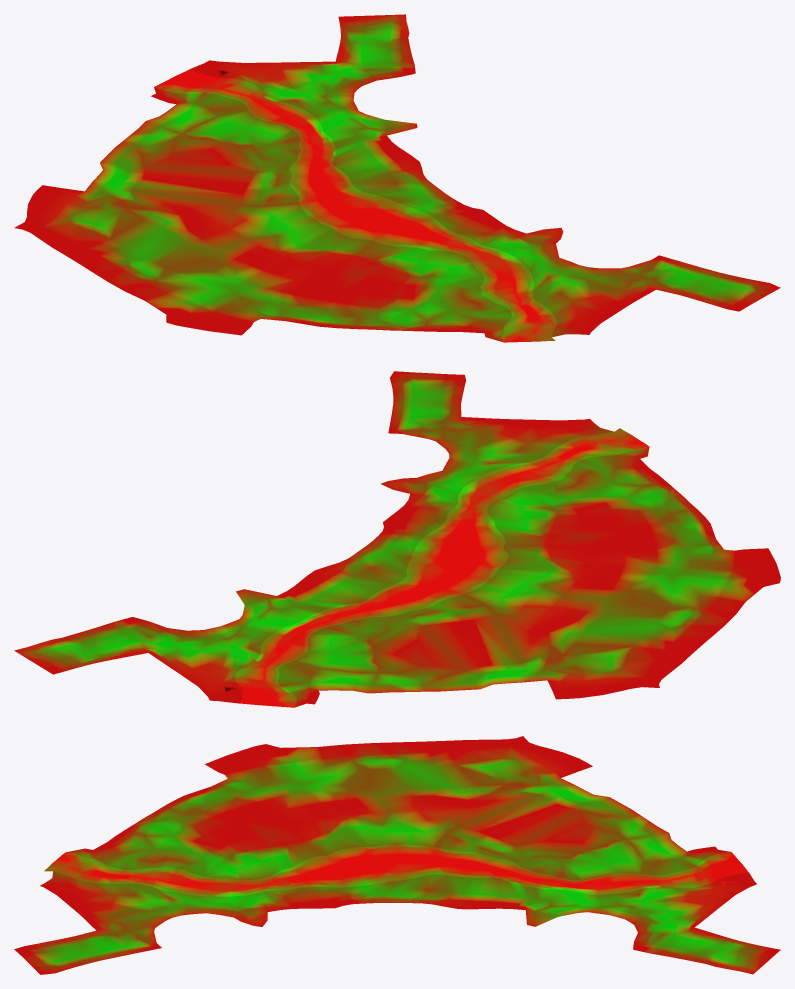
Rendered from pref_sm_beach_winter_grassground02b_lv3.fbx.
3 views of the same model, one above another, from view 1: azimuth 30°, elevation 25°; view 2: azimuth 150°, elevation 25°; view 3: azimuth 270°, elevation 25° (orthographic). The views are drawn at different scales.
Parts seen in each view (by area): view 1: pref_sm_beach_winter_grassground02b_lv3; view 2: pref_sm_beach_winter_grassground02b_lv3; view 3: pref_sm_beach_winter_grassground02b_lv3.
Boxes of the visible parts, <box> form: pref_sm_beach_winter_grassground02b_lv3: <box>14,14,780,342</box>; pref_sm_beach_winter_grassground02b_lv3: <box>14,371,780,707</box>; pref_sm_beach_winter_grassground02b_lv3: <box>14,736,780,974</box>.
Bounding box in the file's own units: 36.57 × 0.1532 × 49.58.
